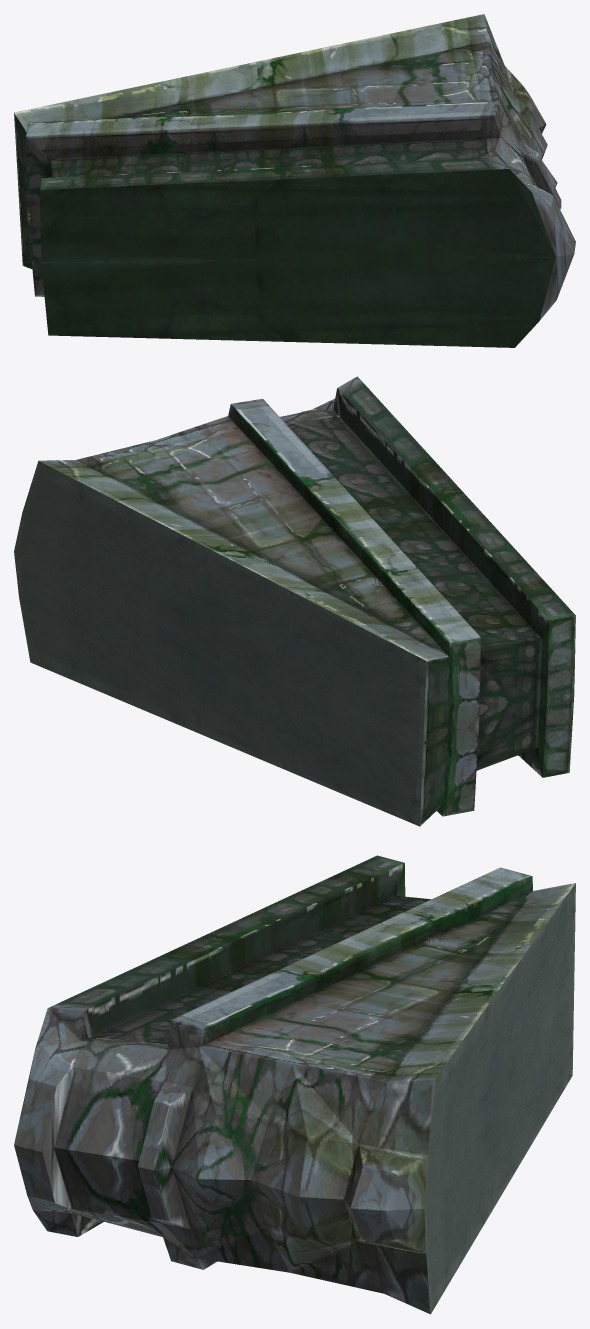
The model's file is stemple_pillar_11.fbx.
3 renders of one model, top to bottom at view 1: azimuth 30°, elevation 25°; view 2: azimuth 150°, elevation 25°; view 3: azimuth 270°, elevation 25°, orthographic. The views are drawn at different scales.
Visible parts, largest first — view 1: sunken_tileset/sunken_pediment01_mat; view 2: sunken_tileset/sunken_pediment01_mat; view 3: sunken_tileset/sunken_pediment01_mat.
Boxes of the visible parts, x1=… form: sunken_tileset/sunken_pediment01_mat: x1=14, y1=14, x2=575, y2=347; sunken_tileset/sunken_pediment01_mat: x1=14, y1=376, x2=575, y2=826; sunken_tileset/sunken_pediment01_mat: x1=14, y1=855, x2=575, y2=1314.
Bounding box in the file's own units: 5.42 × 2.07 × 4.33.
